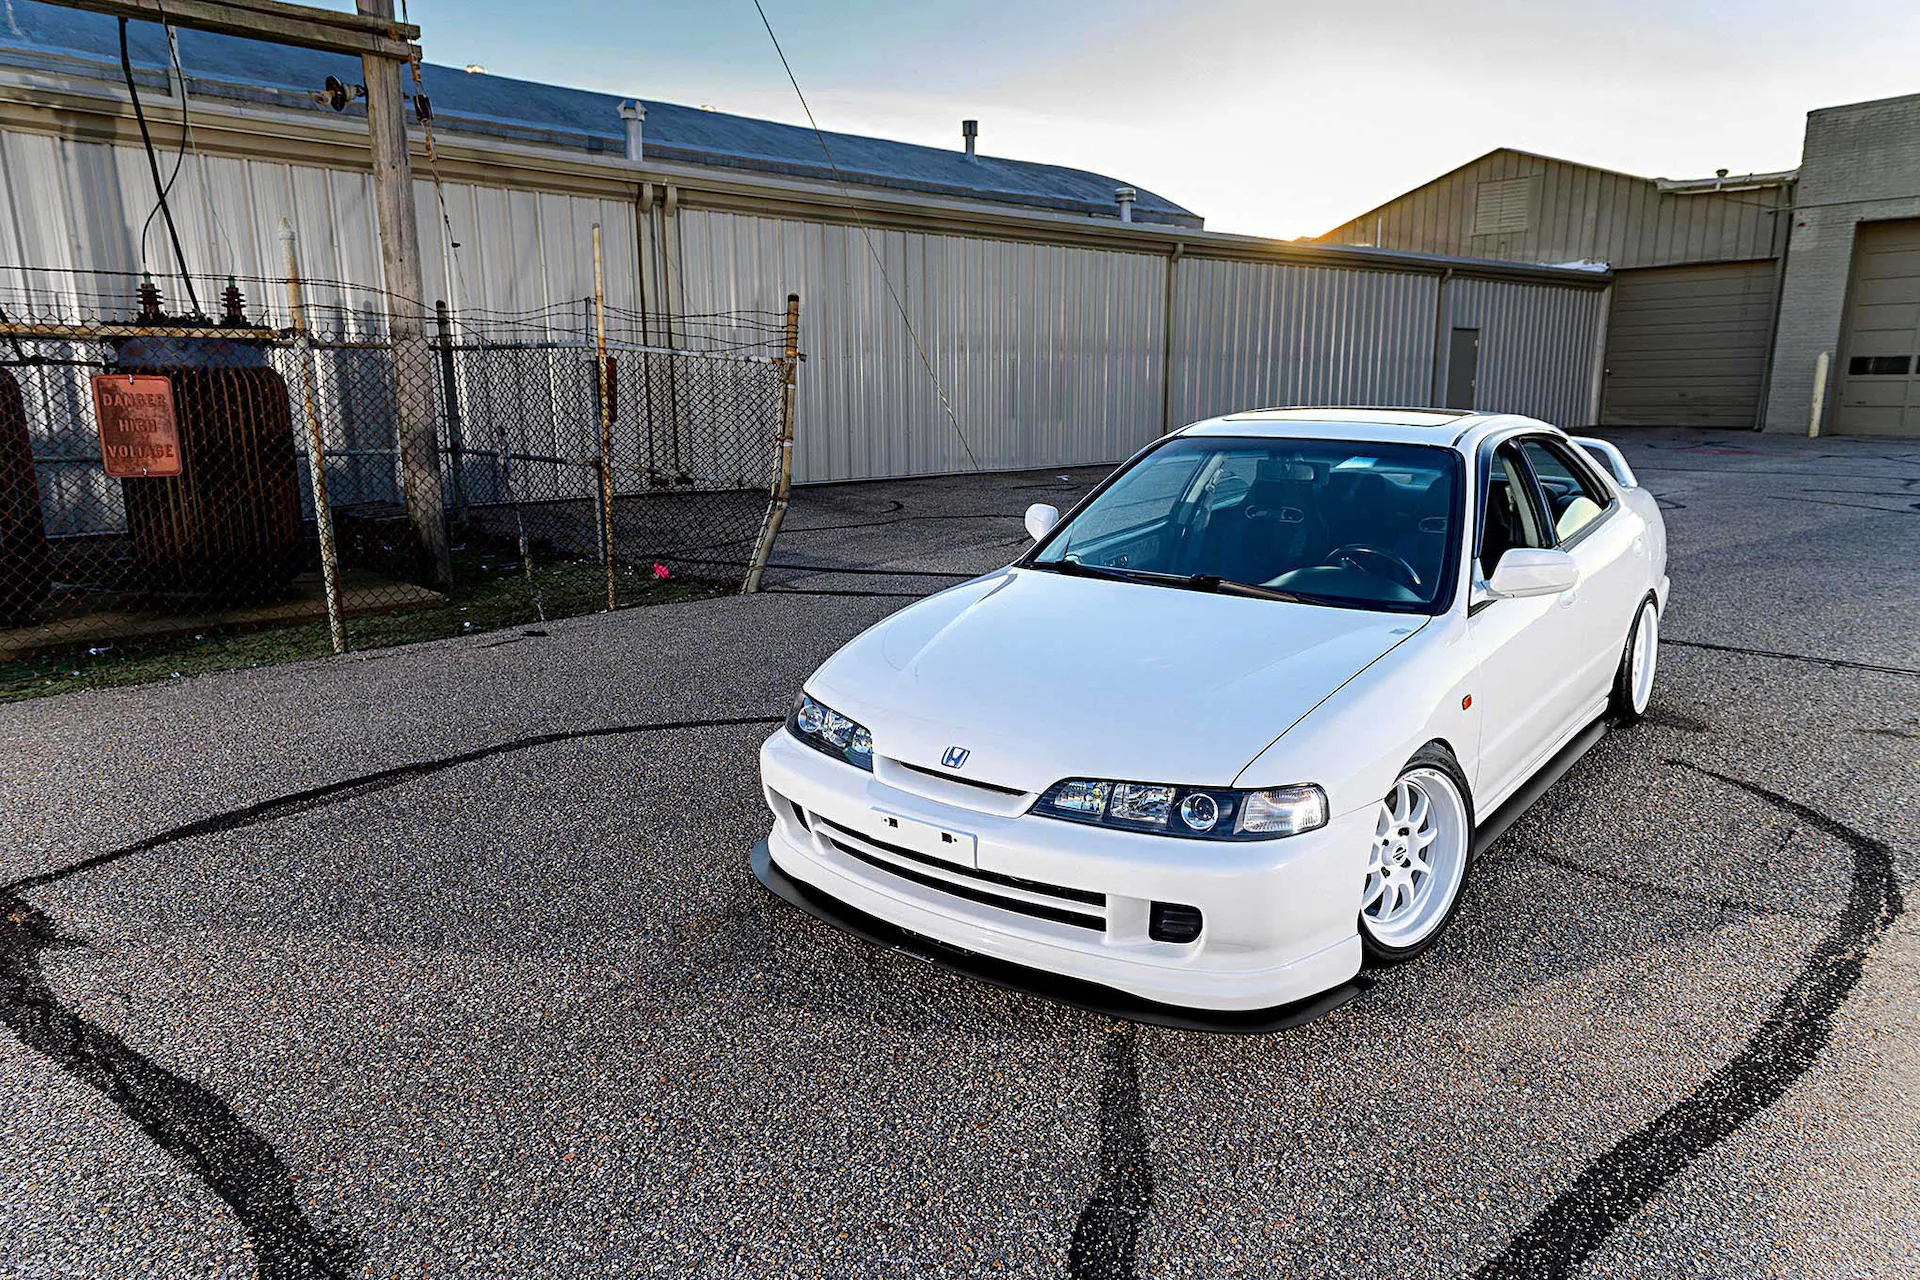car: (743, 393, 1680, 1049)
